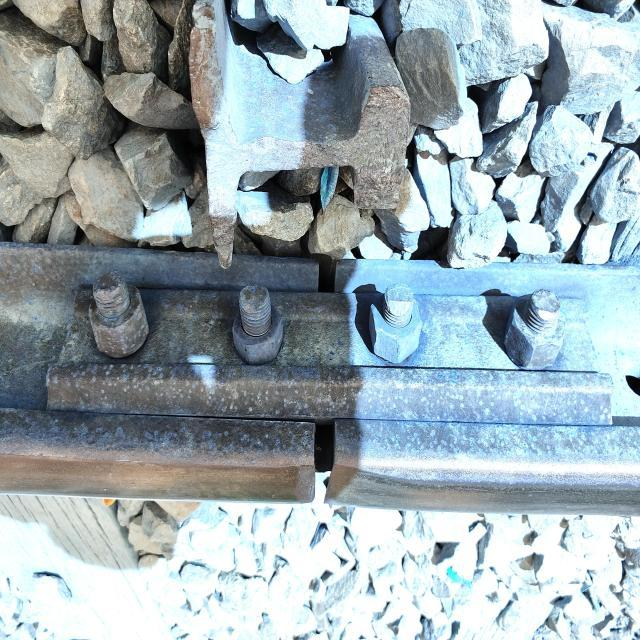Good Joint: (36, 254, 615, 463)
